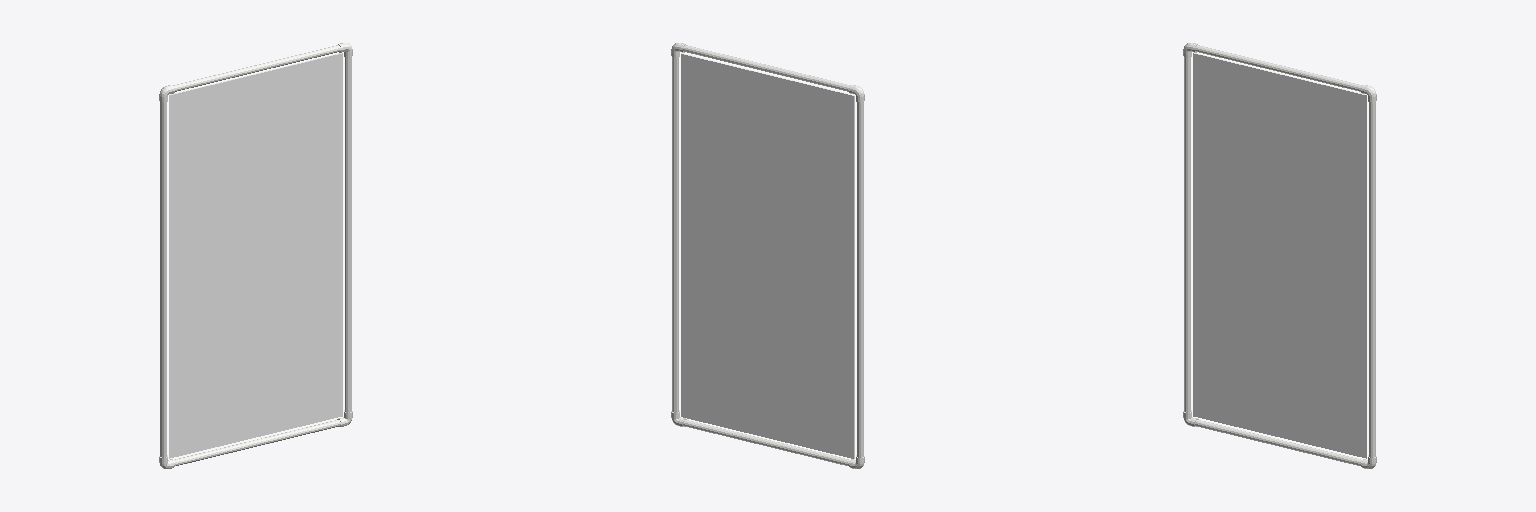
The model's file is Jiangshi.obj.
3 renders of one model, left to right at view 1: azimuth 30°, elevation 25°; view 2: azimuth 150°, elevation 25°; view 3: azimuth 330°, elevation 25°, orthographic.
Visible parts, largest first — view 1: Solid1:8, Solid1:1, Solid1:2, Solid1:7, Solid1:6; view 2: Solid1:8, Solid1:1, Solid1:2, Solid1:7, Solid1:6; view 3: Solid1:8, Solid1:1, Solid1:2, Solid1:7, Solid1:6.
Part boxes in pixels (x1,y1,x2,y2): Solid1:8: (169, 53, 342, 458); Solid1:1: (345, 57, 351, 412); Solid1:2: (160, 102, 166, 457); Solid1:7: (173, 45, 340, 91); Solid1:6: (174, 420, 340, 465); Solid1:8: (681, 53, 854, 458); Solid1:1: (672, 57, 678, 412); Solid1:2: (857, 102, 863, 457); Solid1:7: (683, 45, 850, 91); Solid1:6: (683, 420, 849, 465); Solid1:8: (1193, 53, 1366, 458); Solid1:1: (1369, 102, 1375, 457); Solid1:2: (1184, 57, 1190, 412); Solid1:7: (1195, 45, 1362, 91); Solid1:6: (1195, 420, 1361, 465).
Bounding box in the file's own units: 26.59 × 50.59 × 1.08.